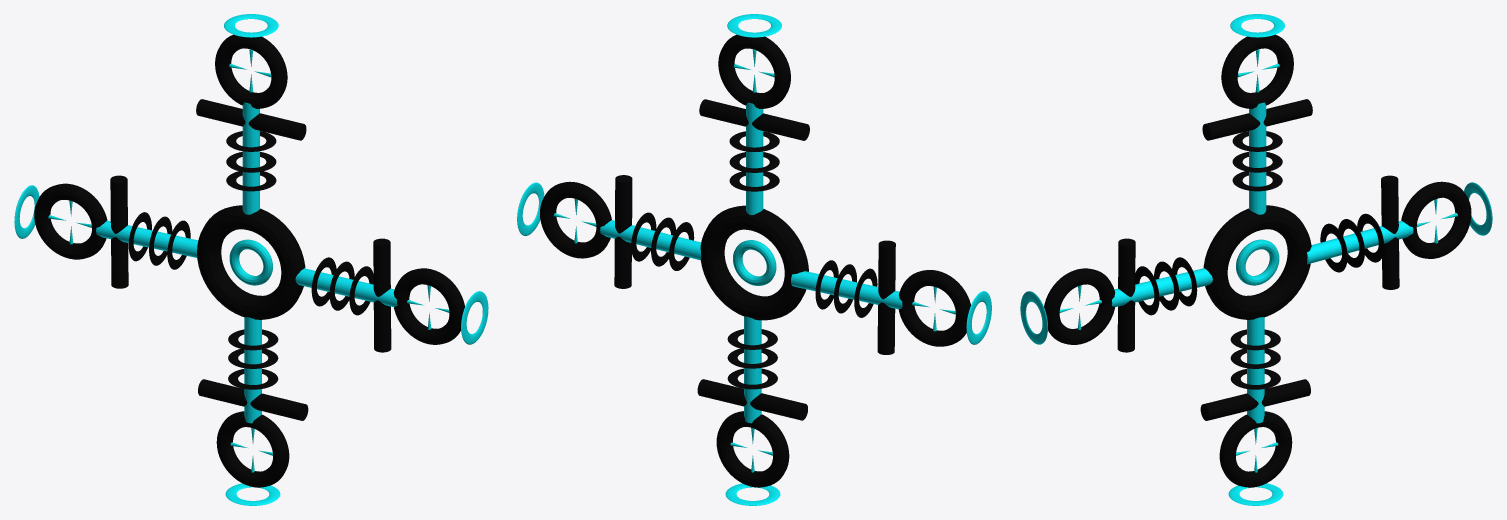
The model's file is Enemy__FastBullet.fbx.
The picture shows the model from 3 angles, left to right: view 1: azimuth 30°, elevation 25°; view 2: azimuth 210°, elevation 25°; view 3: azimuth 270°, elevation 25°; orthographic projection.
Visible parts, largest first — view 1: トーラス.005; view 2: トーラス.005; view 3: トーラス.005.
Part boxes in pixels (left/top/right/bottom): トーラス.005: left=14, top=14, right=488, bottom=505; トーラス.005: left=517, top=14, right=991, bottom=505; トーラス.005: left=1020, top=14, right=1492, bottom=505.
Size of the model in its own units: 2148 by 3622 by 3298.
